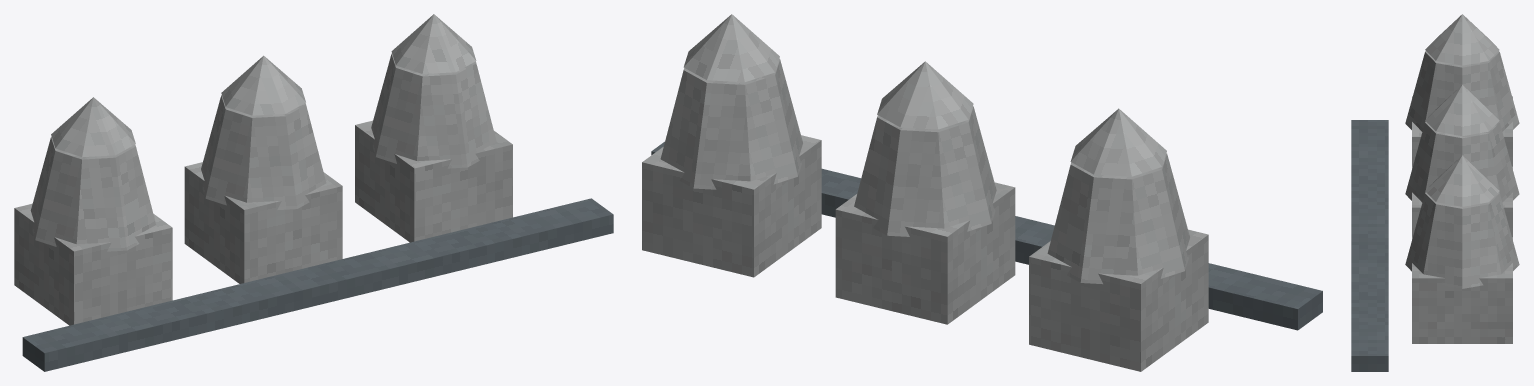
Rendered from level_blockout_cave_survey_cairns.glb.
3 views of the same model, side by side, from view 1: azimuth 30°, elevation 25°; view 2: azimuth 150°, elevation 25°; view 3: azimuth 270°, elevation 25° (orthographic). The views are drawn at different scales.
Visible parts, largest first — view 1: level_blockout_cave_survey_cairns; view 2: level_blockout_cave_survey_cairns; view 3: level_blockout_cave_survey_cairns.
Part boxes in pixels (bbox=[...]): level_blockout_cave_survey_cairns: bbox=[14, 14, 613, 371]; level_blockout_cave_survey_cairns: bbox=[642, 14, 1322, 371]; level_blockout_cave_survey_cairns: bbox=[1351, 14, 1519, 371].
Bounding box in the file's own units: 2.54 × 0.85 × 0.765.
Materials: 2 (2 with a texture image).
